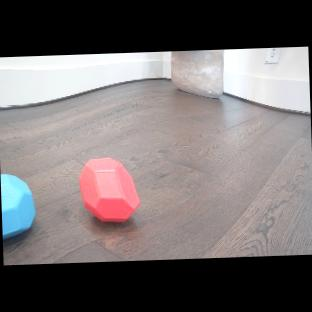V5_BLUE: (0, 172, 37, 239)
V5_RED: (78, 157, 142, 224)
